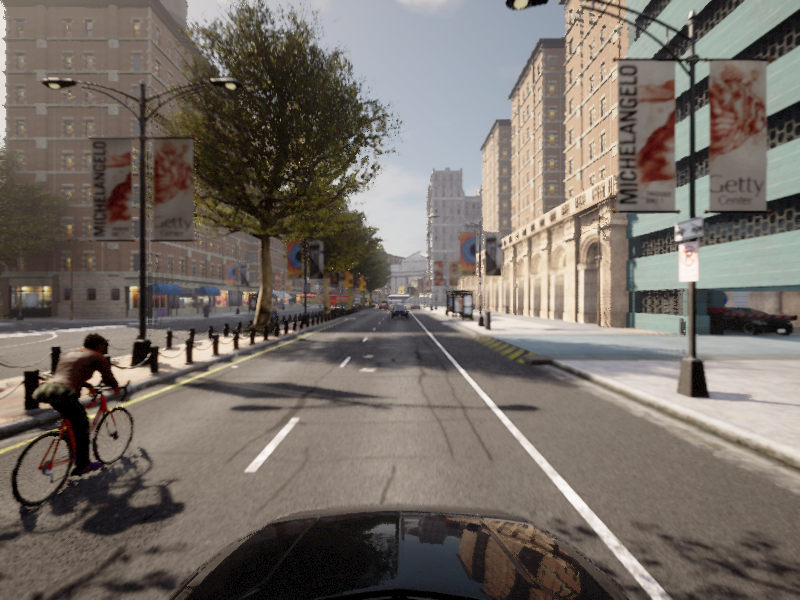vehicle: (1, 329, 155, 522), (266, 304, 281, 322), (391, 305, 408, 318), (258, 303, 272, 318)
